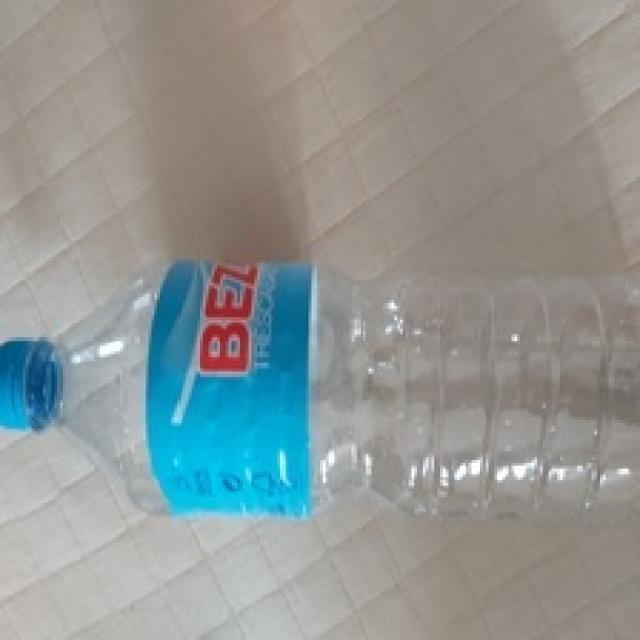Plastic: (0, 258, 640, 516)
